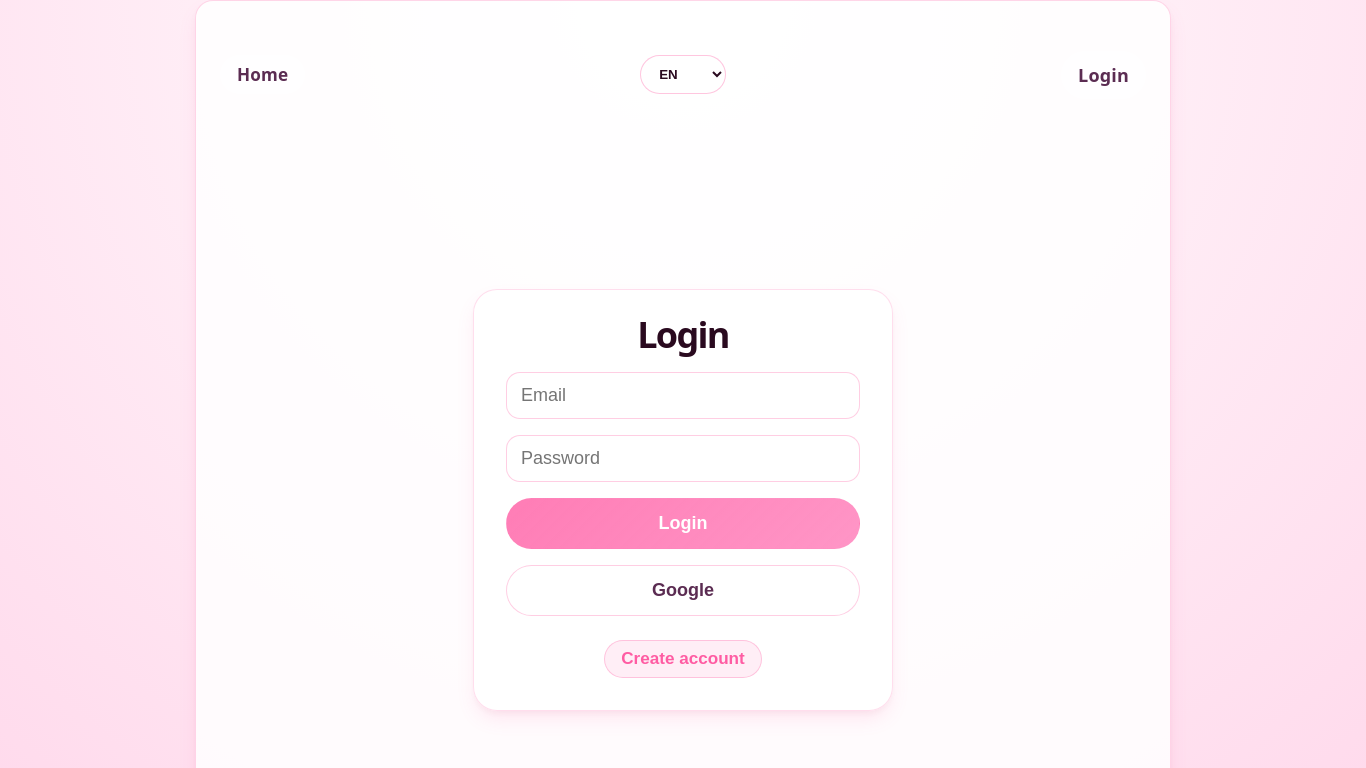
Test case: LoginForm › shows password minimum length error when password is too short
The image size is (1366, 768).
Type "user@example.com" into the field with placeholder "Email" at (683, 396), box [506, 372, 860, 419]
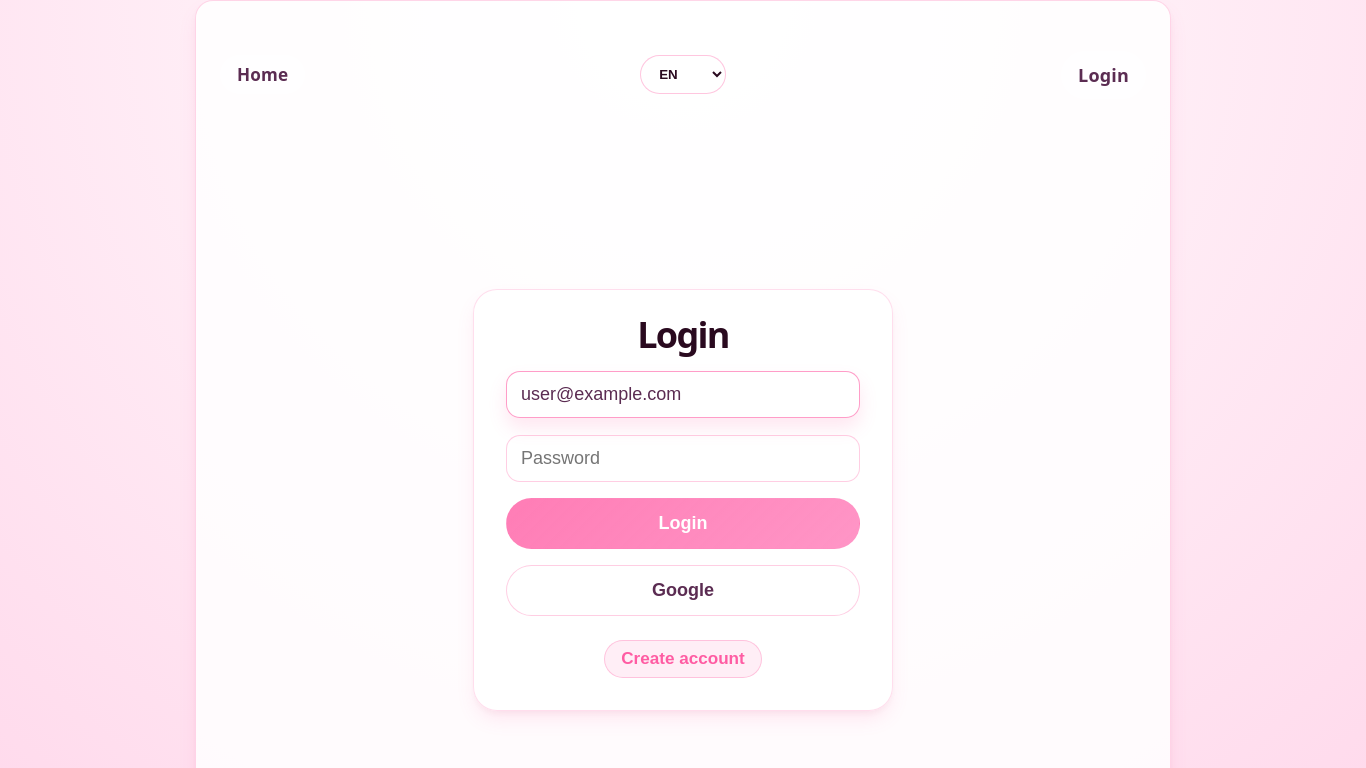
Type "123" into the password field with placeholder "Password" at (683, 459), box [506, 435, 860, 482]
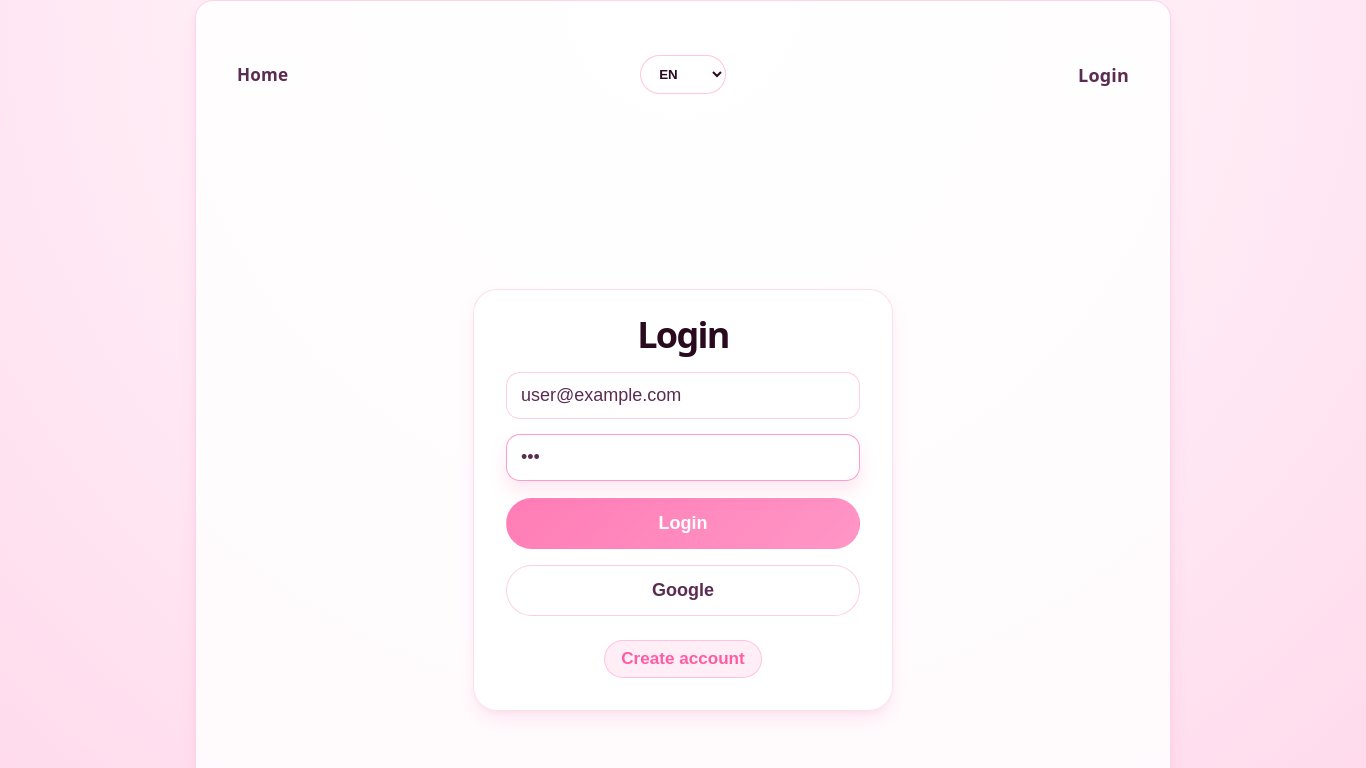
Click the submit button at (683, 524), box [506, 498, 860, 549]
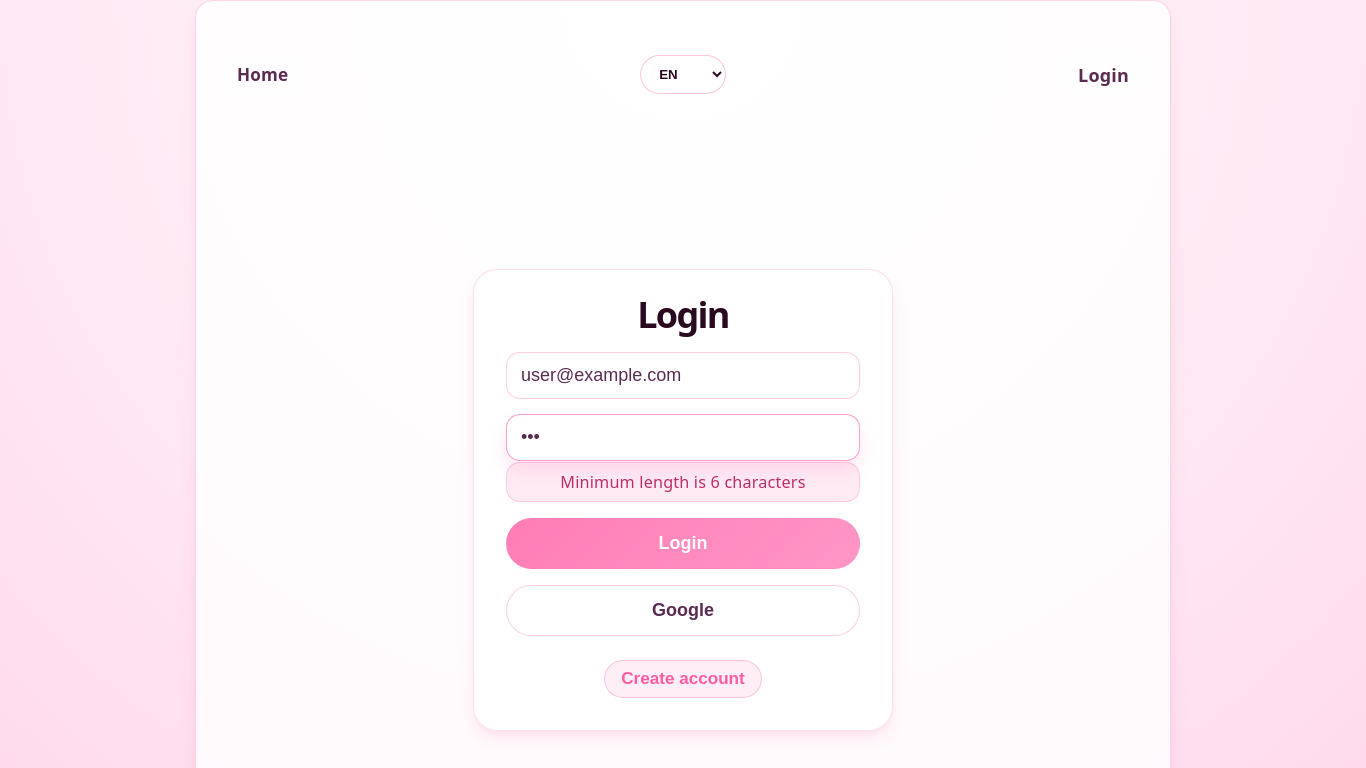
Now the text "Minimum length is 6 characters" is shown, box [506, 462, 860, 502]
